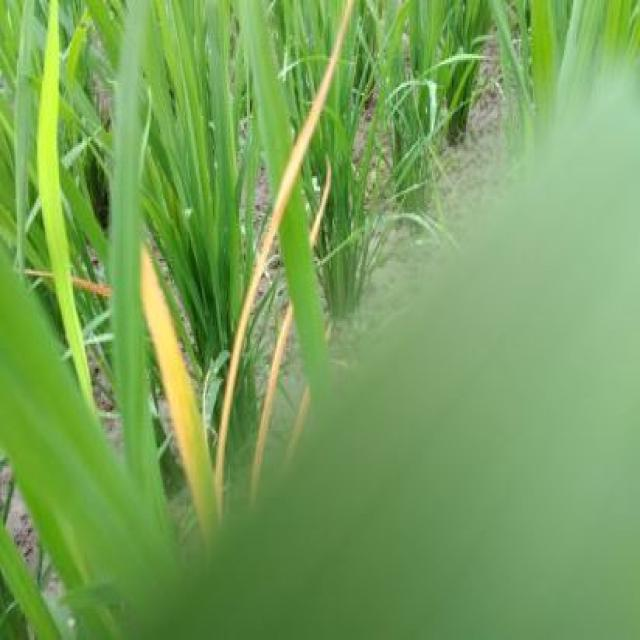Tungro: (139, 0, 288, 512)
